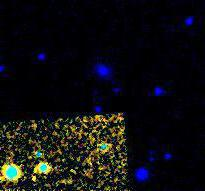star: (17, 163, 47, 191)
